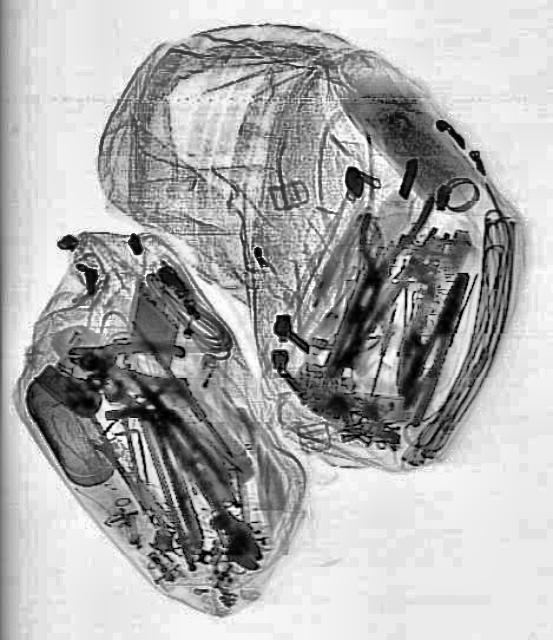Pliers: (389, 264, 477, 428), (342, 177, 432, 309), (63, 332, 189, 388)
Wrench: (145, 416, 269, 578), (99, 372, 163, 428)
